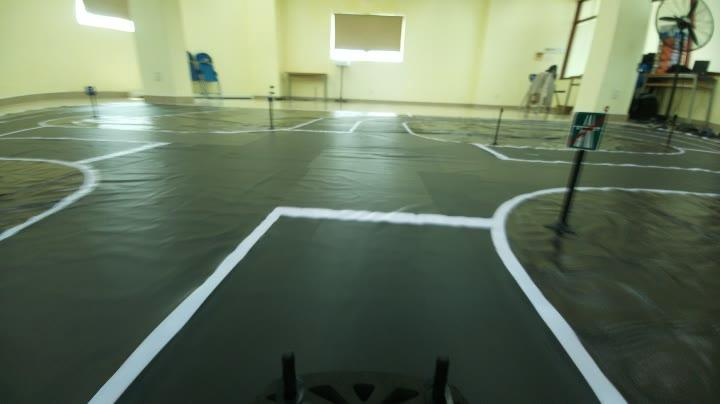highway_exit: (566, 109, 606, 154)
